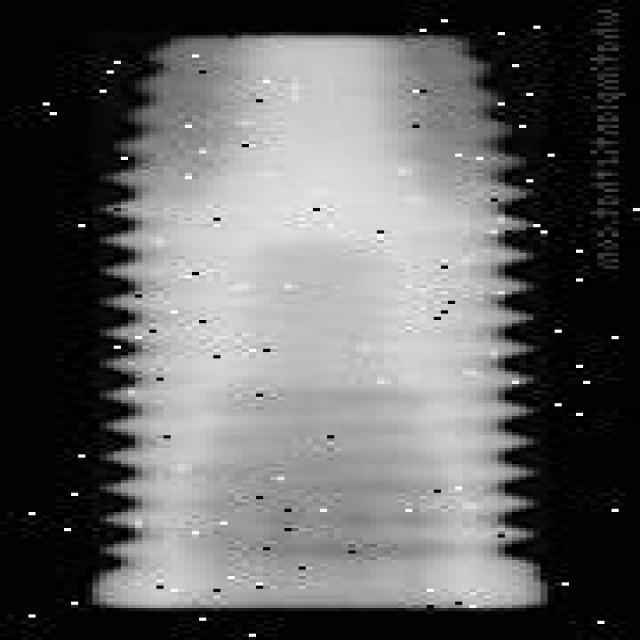Retained root: (85, 27, 548, 608)
